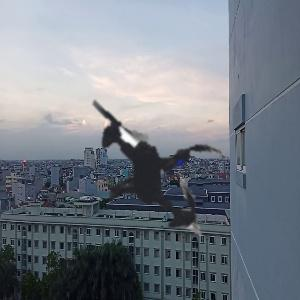drone: (20, 31, 285, 296)
